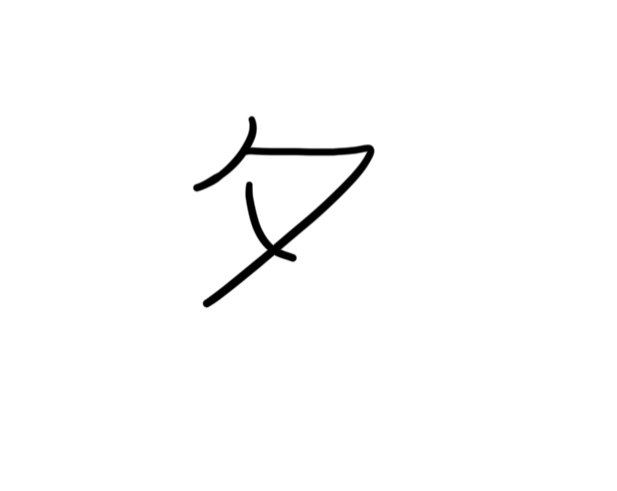ta: (171, 109, 381, 320)
